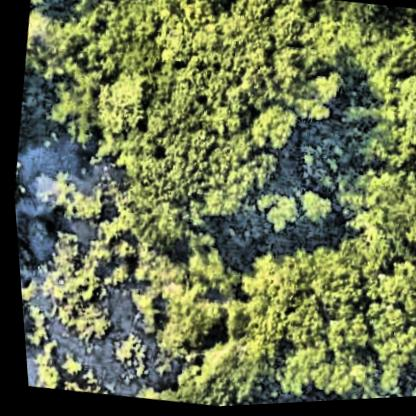tree-top: (242, 238, 386, 407), (182, 0, 359, 135), (123, 79, 277, 229), (110, 167, 204, 255), (136, 282, 226, 367), (339, 164, 416, 259), (352, 307, 416, 402), (81, 67, 153, 145), (191, 348, 270, 409), (381, 16, 416, 145), (239, 94, 300, 163), (246, 182, 303, 241), (365, 260, 416, 322), (296, 189, 332, 232)
